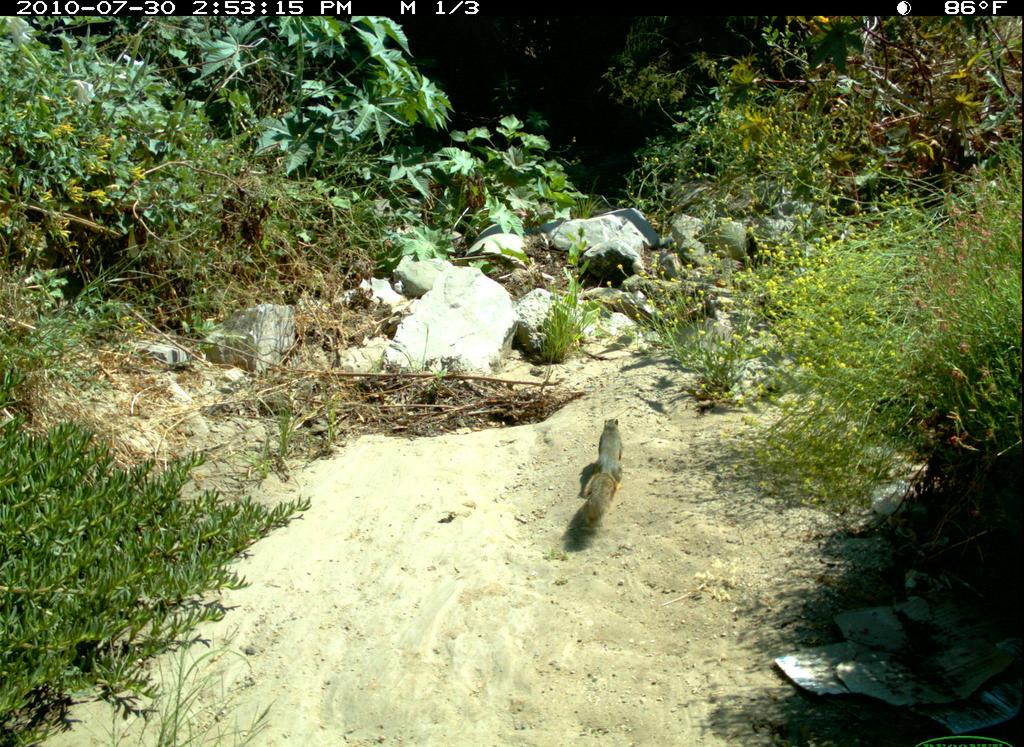squirrel: (565, 409, 633, 556)
